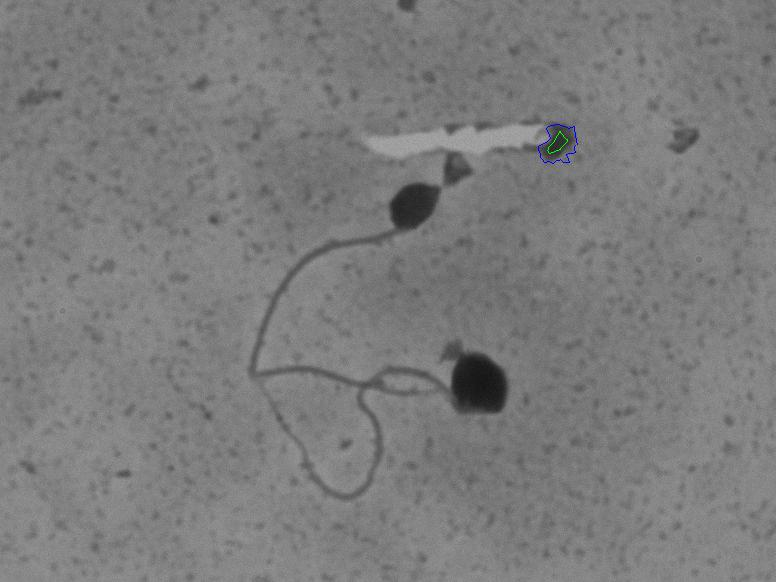Abnormal: (223, 166, 449, 389)
